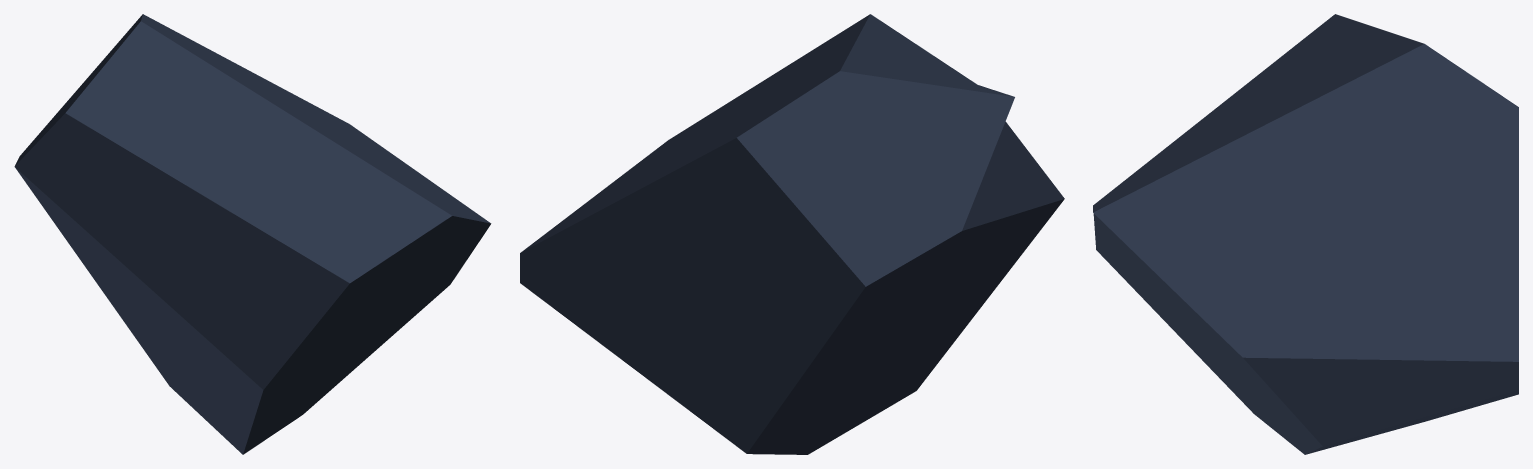
File: Coal B.fbx
3 renders of one model, left to right at view 1: azimuth 30°, elevation 25°; view 2: azimuth 150°, elevation 25°; view 3: azimuth 270°, elevation 25°, orthographic. The views are drawn at different scales.
Parts seen in each view (by area): view 1: Coal B; view 2: Coal B; view 3: Coal B.
Part boxes in pixels (x1,y1,x2,y2): Coal B: (14,14,491,454); Coal B: (520,14,1064,454); Coal B: (1093,14,1518,454).
Size of the model in its own units: 73.67 by 69.37 by 73.67.
